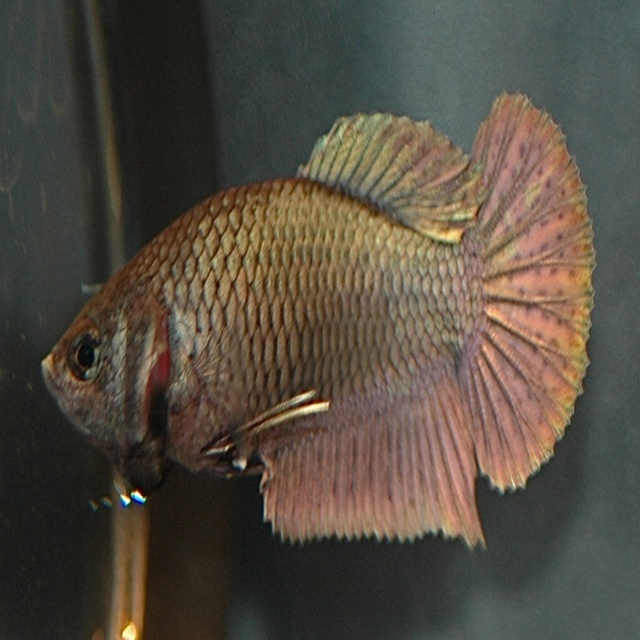Fish: (13, 93, 594, 567)
